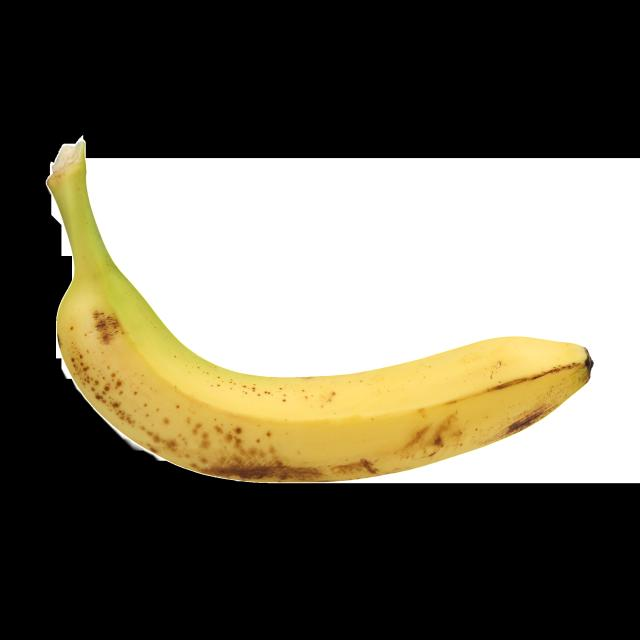banana: (50, 145, 592, 484)
